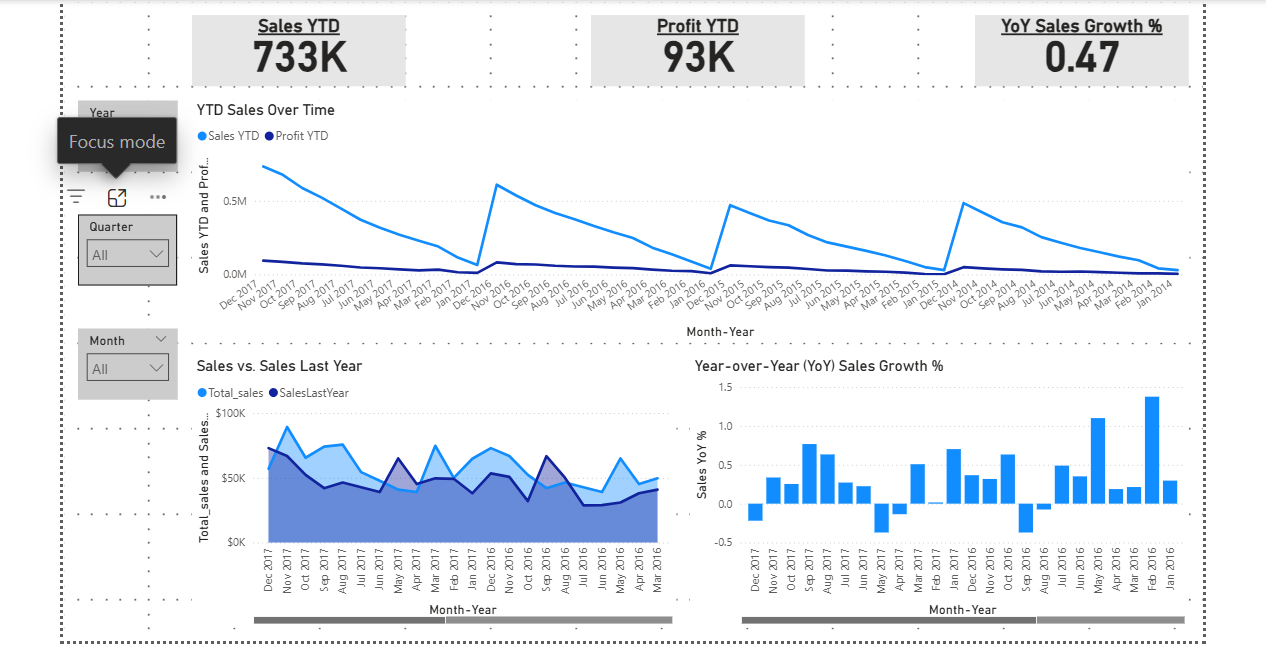

This screenshot's page, from the dashboard's own definition file:
{"tool":"powerbi","page":{"name":"Time Based Analysis","canvas":[1280,720],"ordinal":2},"visuals":[{"type":"lineChart","title":"YTD Sales Over Time","fields":{"Y":["Fact_Sales.Sales YTD","Fact_Sales.Profit YTD"],"Category":["Dim_Date.Month-Year"]},"box":[144,112,1120,272],"z":0},{"type":"clusteredColumnChart","title":"Year-over-Year (YoY) Sales Growth %","fields":{"Y":["Fact_Sales.Sales YoY %"],"Category":["Dim_Date.Month-Year"]},"box":[704,400,560,304],"z":1000},{"type":"areaChart","title":"Sales vs. Sales Last Year","fields":{"Y":["Fact_Sales.Total_sales","Fact_Sales.SalesLastYear"],"Category":["Dim_Date.Month-Year"]},"box":[144,400,544,304],"z":2000},{"type":"card","title":"Sales YTD","fields":{"Values":["Fact_Sales.Sales YTD"]},"box":[144,16,240,80],"z":3000},{"type":"card","title":"Profit YTD","fields":{"Values":["Fact_Sales.Profit YTD"]},"box":[592,16,240,80],"z":4000},{"type":"card","title":"YoY Sales Growth % ","fields":{"Values":["Fact_Sales.Sales YoY %"]},"box":[1024,16,240,80],"z":5000},{"type":"slicer","fields":{"Values":["Dim_Date.Year"]},"box":[16,112,112,80],"z":6000},{"type":"slicer","fields":{"Values":["Dim_Date.Quarter"]},"box":[16,240,112,80],"z":7000},{"type":"slicer","fields":{"Values":["Dim_Date.Month"]},"box":[16,368,112,80],"z":8000}]}

Visuals, with their boxes on the page's 1280x720 design canvas (x1, y1, x2, y2). These are canvas units, not pixel positions in the 1266x661 screenshot, which may show the page scaled, cropped or inside an application window:
"YTD Sales Over Time" lineChart: [144, 112, 1264, 384]
"Year-over-Year (YoY) Sales Growth %" clusteredColumnChart: [704, 400, 1264, 704]
"Sales vs. Sales Last Year" areaChart: [144, 400, 688, 704]
"Sales YTD" card: [144, 16, 384, 96]
"Profit YTD" card: [592, 16, 832, 96]
"YoY Sales Growth % " card: [1024, 16, 1264, 96]
slicer - Dim_Date.Year: [16, 112, 128, 192]
slicer - Dim_Date.Quarter: [16, 240, 128, 320]
slicer - Dim_Date.Month: [16, 368, 128, 448]
